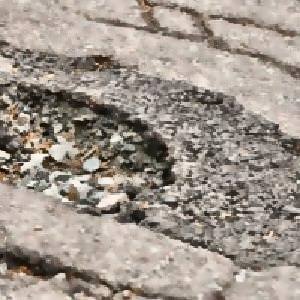pothole: (0, 80, 178, 225), (0, 245, 65, 281)
